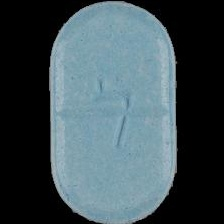51138-058: (0, 0, 224, 224)
